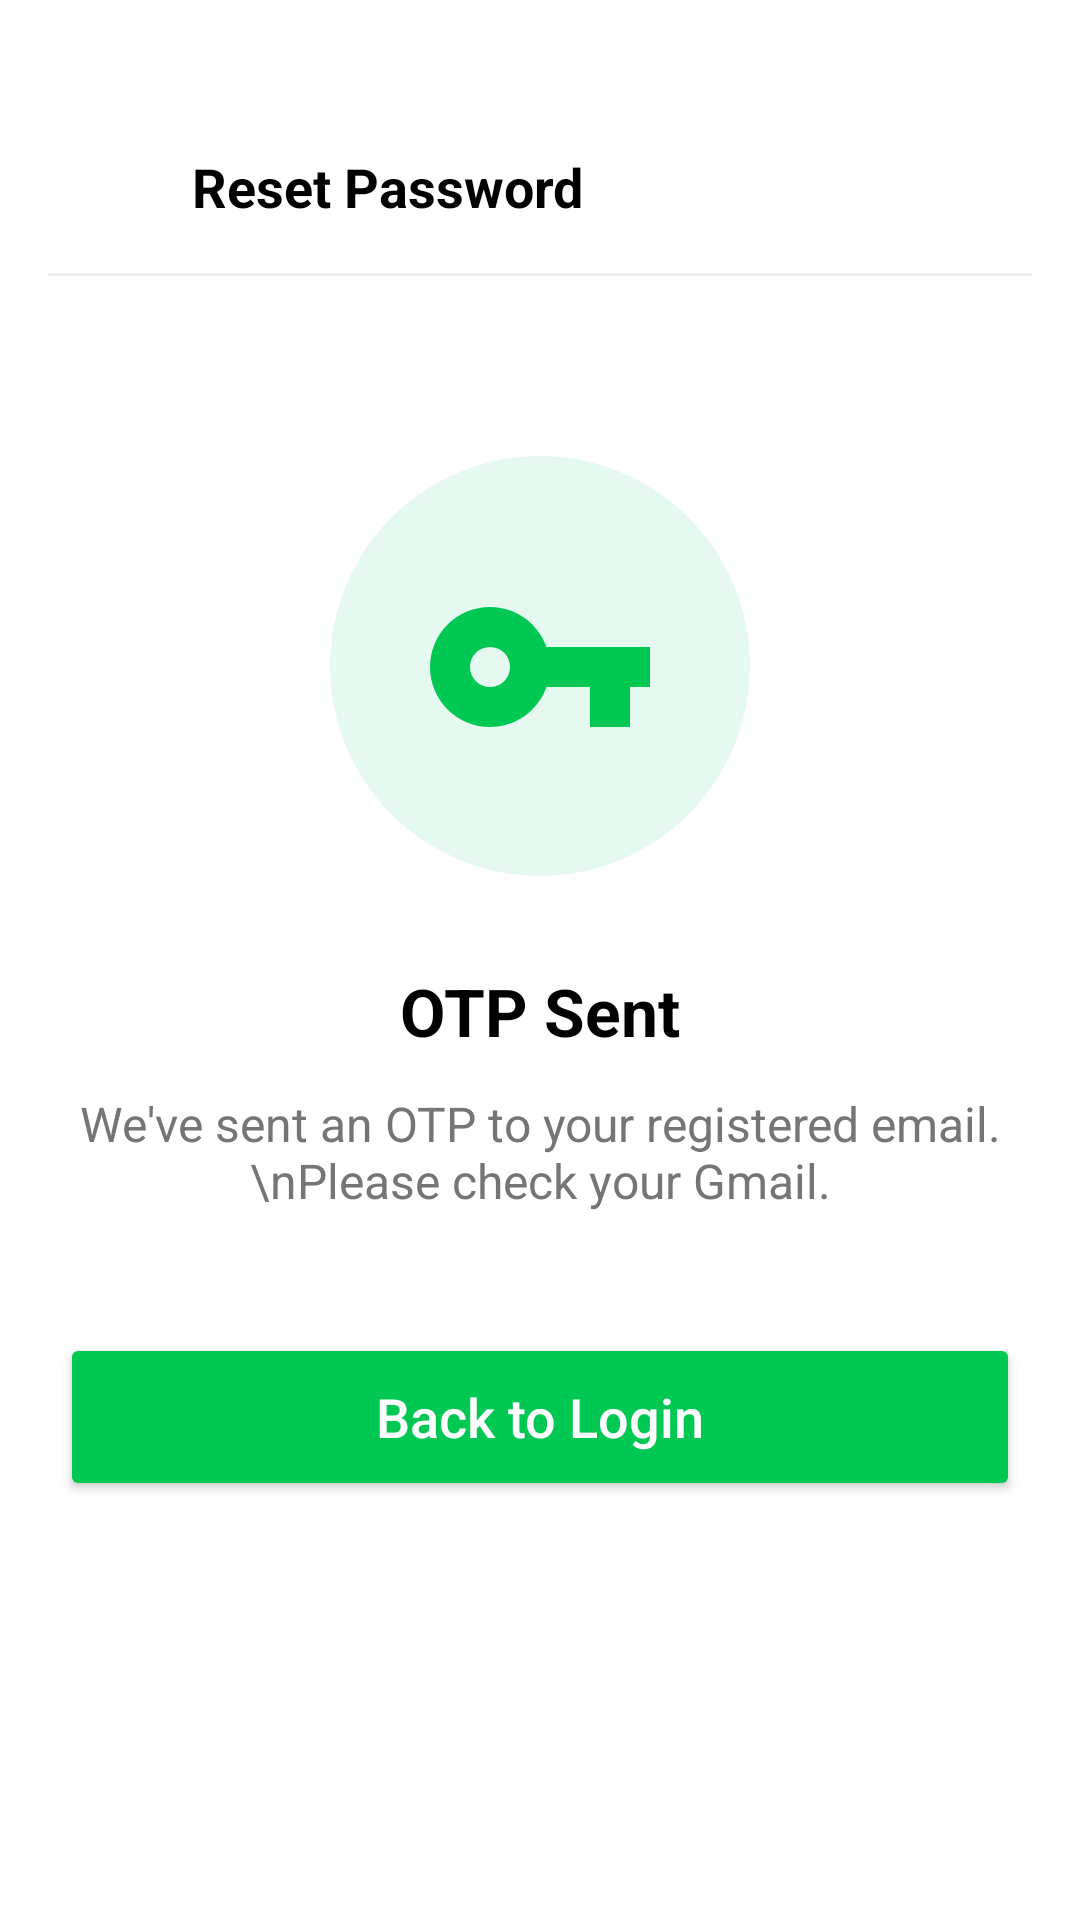

Locate icon controls on the screen. Image size 1080x1920, boxes as (x1, y1, x2, y2).
key: (430, 607, 650, 727)
